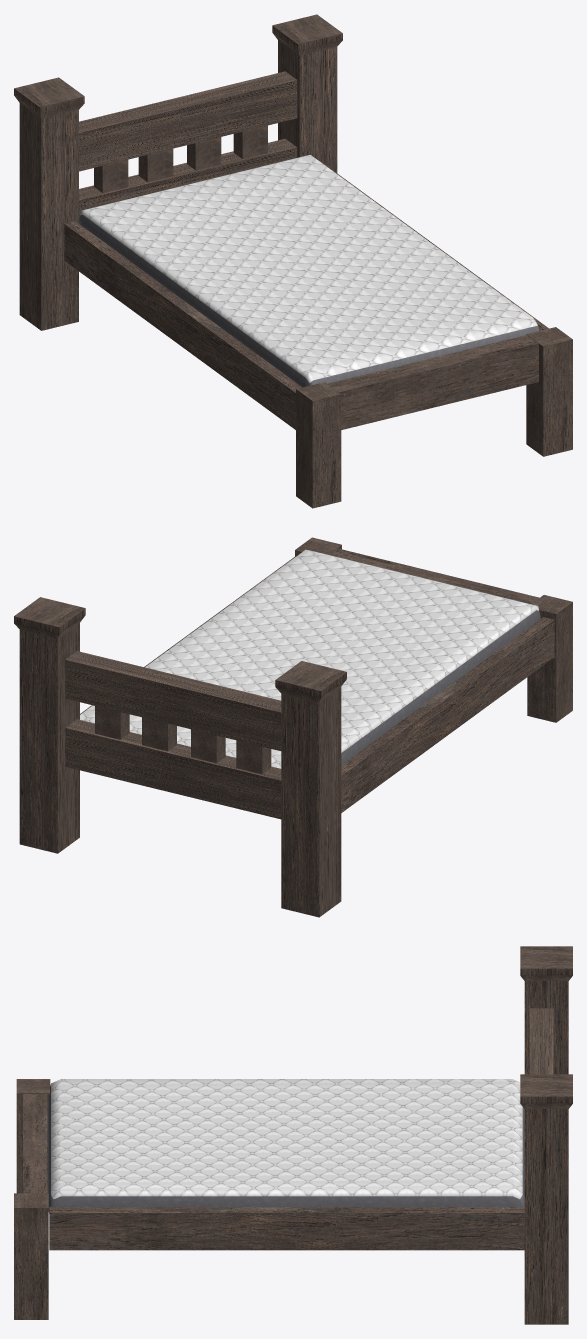
The model's file is cama.fbx.
3 renders of one model, top to bottom at view 1: azimuth 30°, elevation 25°; view 2: azimuth 150°, elevation 25°; view 3: azimuth 270°, elevation 25°, orthographic.
Parts seen in each view (by area): view 1: polySurface8, pCube1, polySurface5, pCube15, polySurface3, pCube2, polySurface1, polySurface2, pCube18, pCube16, pCube17, pCube13 (+1 smaller); view 2: polySurface8, pCube1, pCube2, pCube15, polySurface5, pCube18, polySurface1, polySurface3, pCube13, pCube17, pCube14, pCube16 (+1 smaller); view 3: polySurface8, polySurface4, pCube2, pCube1, polySurface2, polySurface3, pCube15, polySurface1.
Part boxes in pixels (<box>): polySurface8: <box>78,155,539,387</box>; pCube1: <box>14,77,84,330</box>; polySurface5: <box>64,221,302,429</box>; pCube15: <box>79,71,297,171</box>; polySurface3: <box>327,335,538,429</box>; pCube2: <box>272,14,342,172</box>; polySurface1: <box>296,382,341,508</box>; polySurface2: <box>526,327,572,456</box>; pCube18: <box>79,138,297,218</box>; pCube16: <box>138,148,173,182</box>; pCube17: <box>187,137,221,170</box>; pCube13: <box>94,159,128,192</box>; polySurface8: <box>80,549,540,768</box>; pCube1: <box>275,661,346,917</box>; pCube2: <box>14,597,85,853</box>; pCube15: <box>65,651,281,750</box>; polySurface5: <box>341,617,554,812</box>; pCube18: <box>65,719,281,819</box>; polySurface1: <box>527,595,572,722</box>; polySurface3: <box>329,548,539,603</box>; pCube13: <box>236,740,271,774</box>; pCube17: <box>142,717,176,751</box>; pCube14: <box>95,706,129,739</box>; pCube16: <box>191,729,225,763</box>; polySurface8: <box>47,1079,524,1213</box>; polySurface4: <box>49,1207,524,1250</box>; pCube2: <box>520,1074,572,1324</box>; pCube1: <box>520,946,572,1074</box>; polySurface2: <box>14,1193,48,1319</box>; polySurface3: <box>23,1094,47,1193</box>; pCube15: <box>529,1008,553,1074</box>; polySurface1: <box>16,1079,50,1193</box>.
Size of the model in its own units: 5.42 by 3.92 by 8.53.
